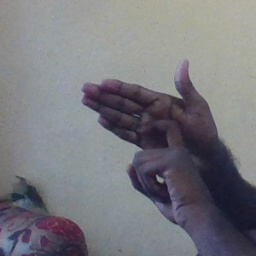R: (79, 52, 225, 198)
